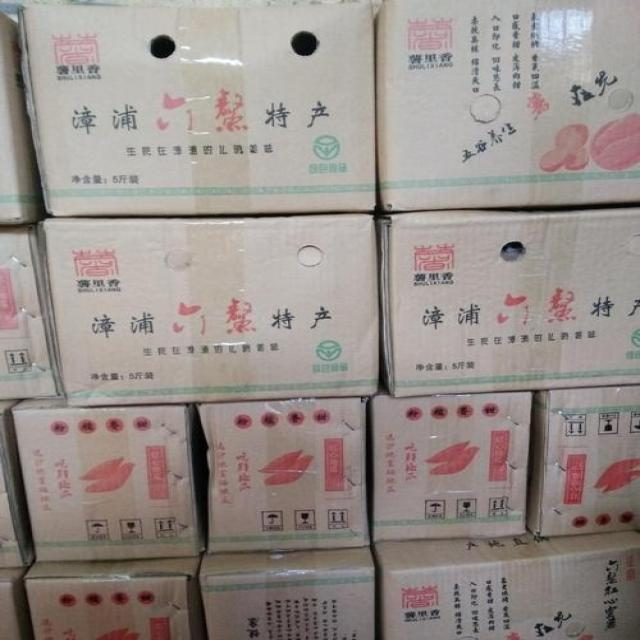box: (18, 1, 381, 218), (37, 213, 380, 410), (371, 0, 639, 213), (379, 201, 639, 396), (10, 397, 210, 564), (372, 527, 639, 639), (372, 367, 533, 543), (197, 396, 371, 555), (527, 383, 639, 537), (198, 544, 375, 639), (24, 554, 209, 639), (0, 221, 63, 399), (1, 14, 48, 225), (0, 398, 34, 569), (0, 567, 35, 639)
